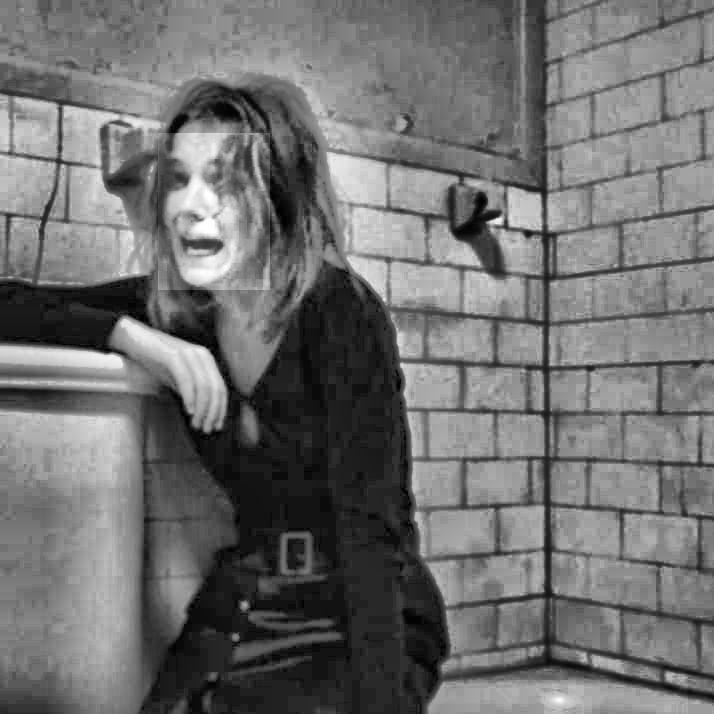sad: (159, 134, 271, 291)
